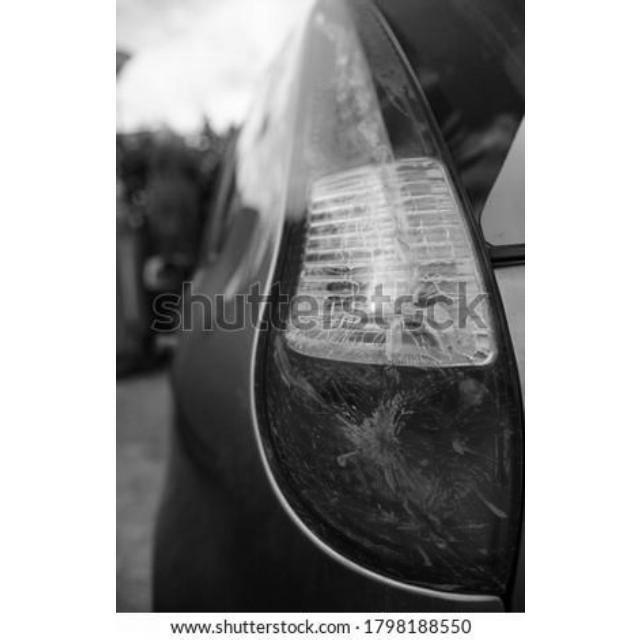Taillight-Damage: (200, 3, 515, 599)
